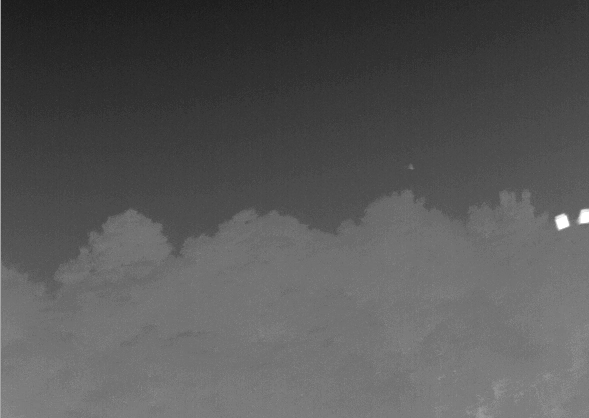dim target: (407, 164, 415, 170)
